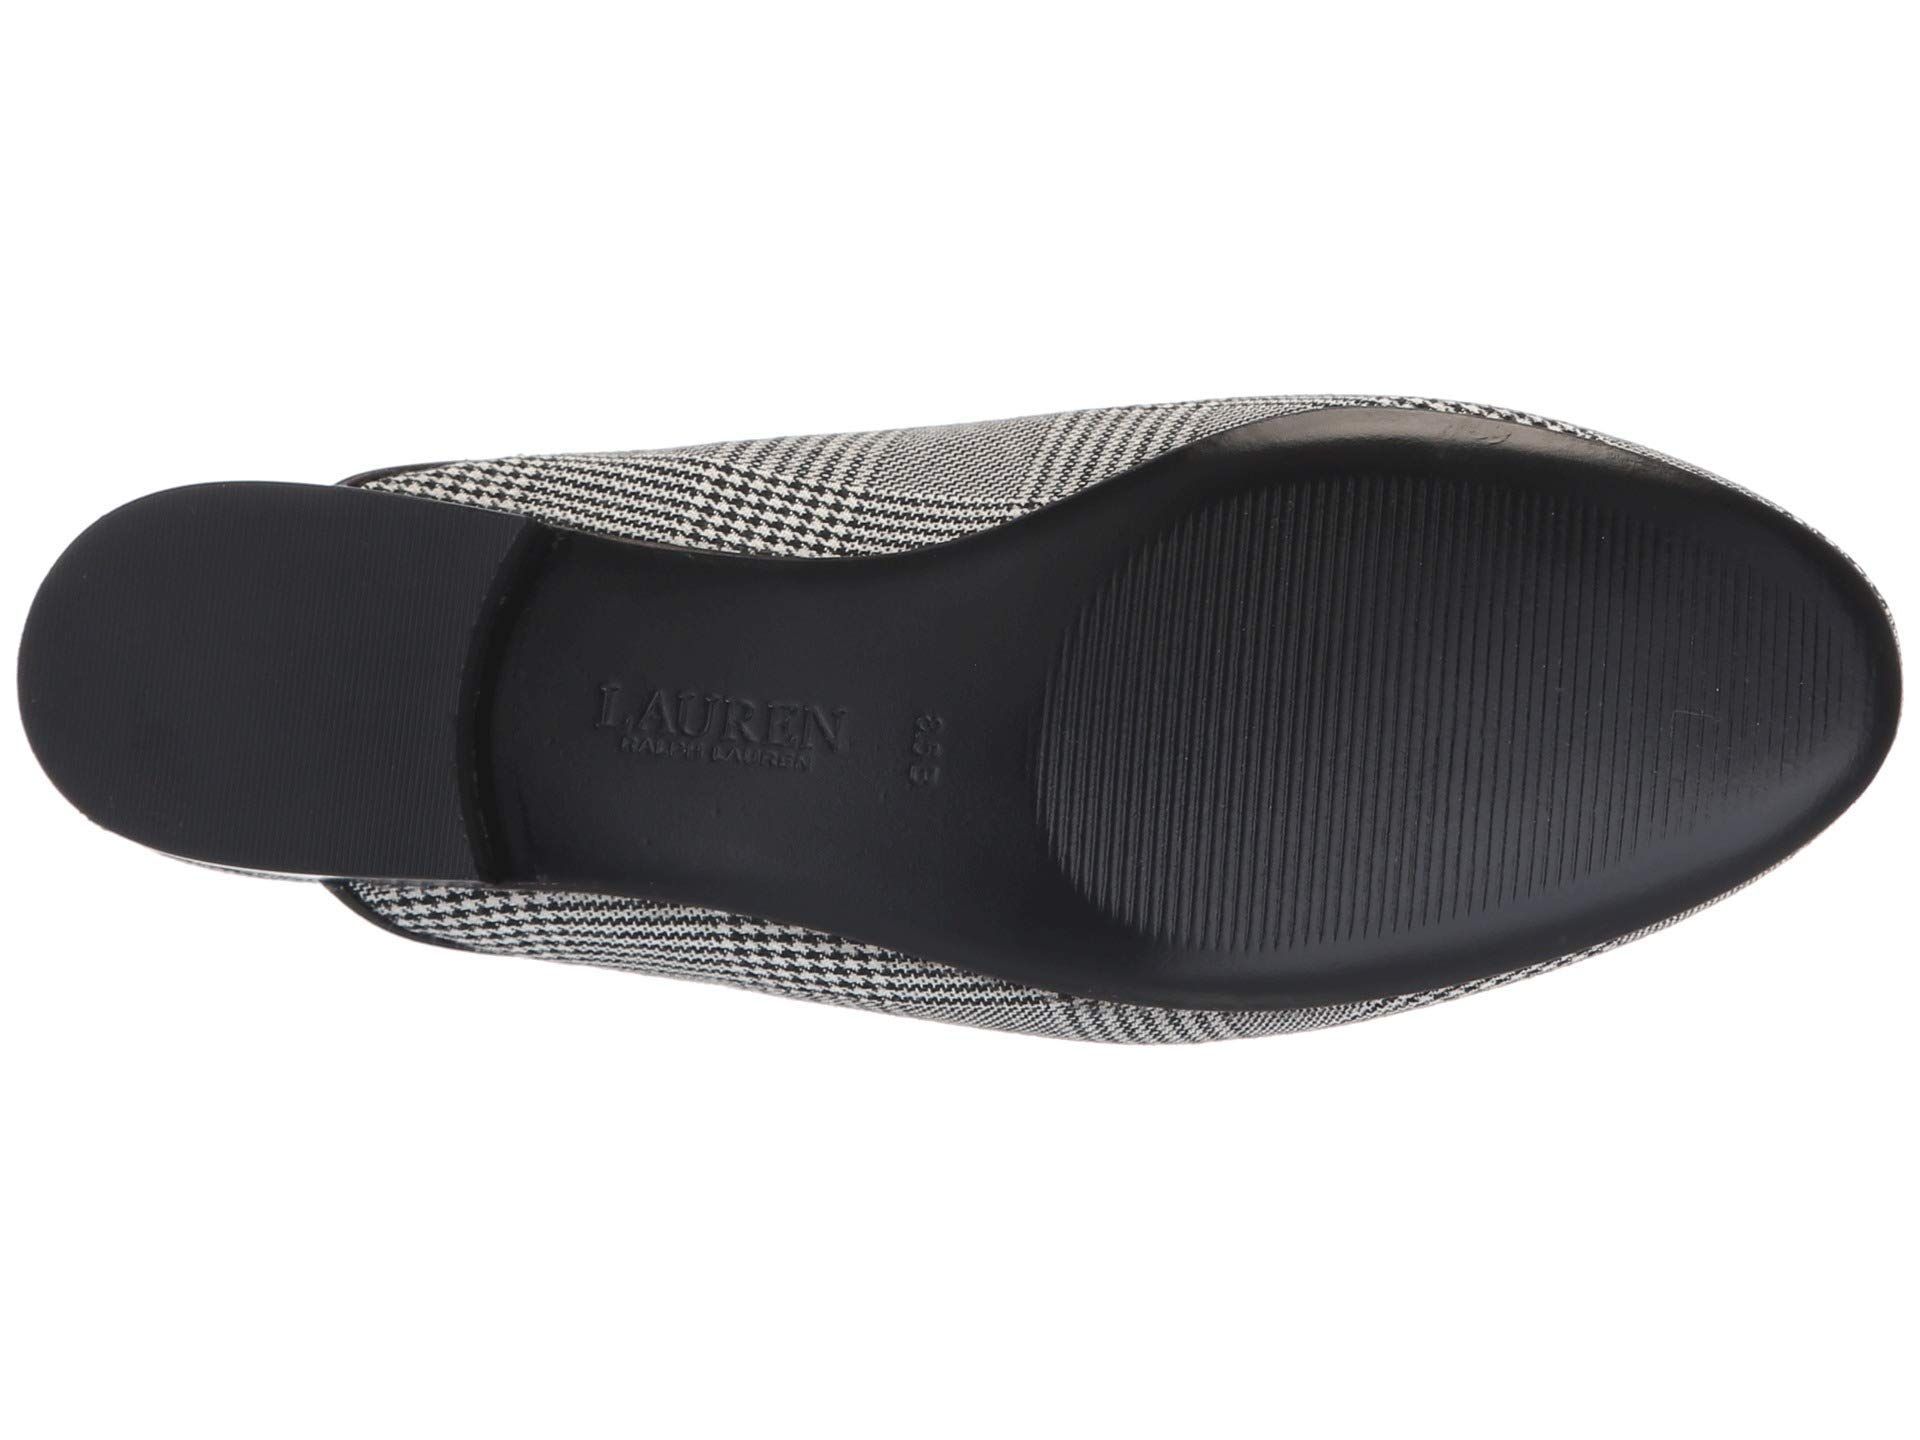line: (1232, 475, 1627, 790)
text: (549, 643, 996, 830)
